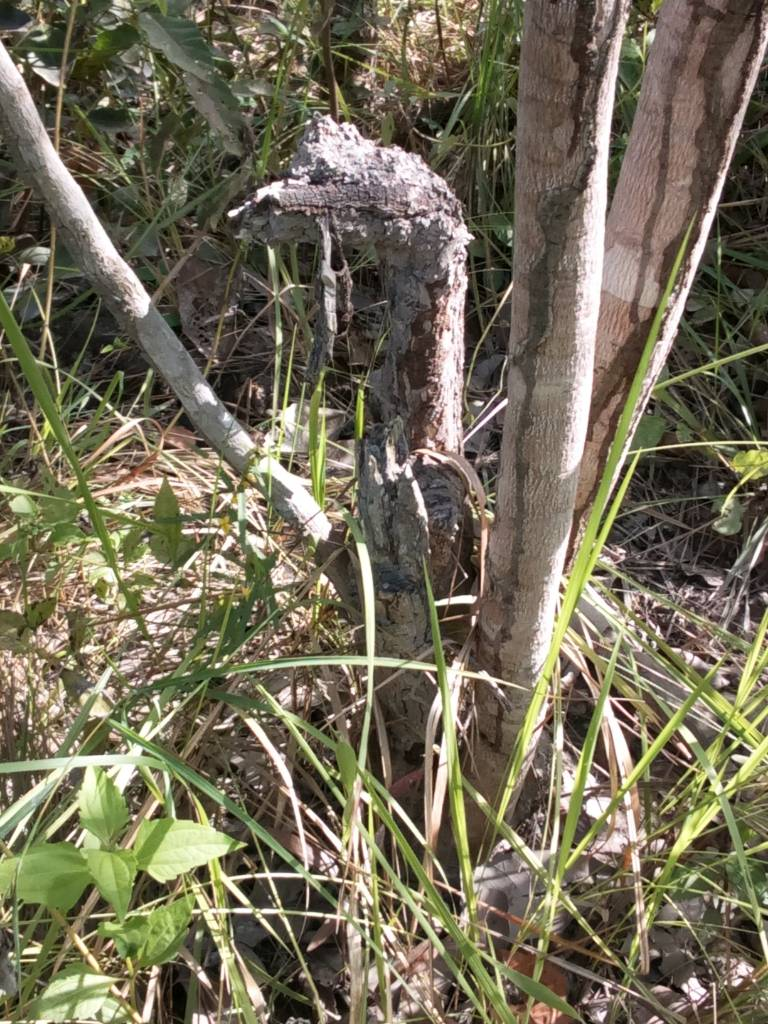Termites: (488, 208, 580, 742), (386, 158, 472, 480), (249, 111, 372, 238)
